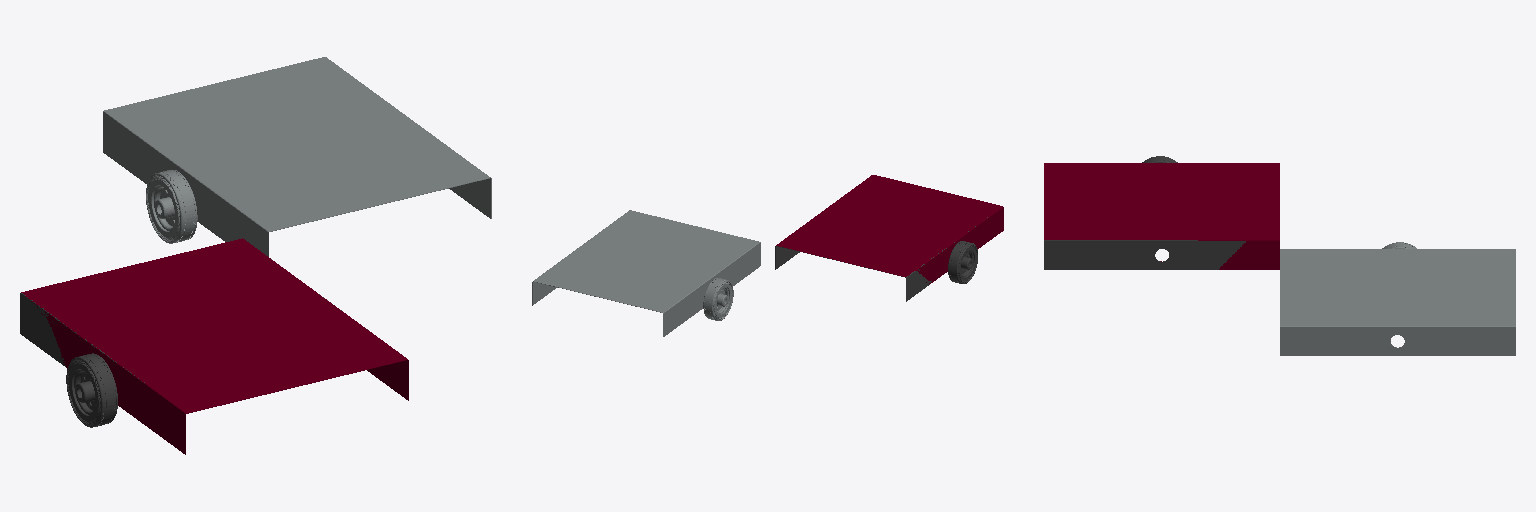
URDF robot description (agv_ver_1):
<?xml version="1.0" encoding="utf-8"?>
<!-- This URDF was automatically created by SolidWorks to URDF Exporter! Originally created by [author] ([email redacted]) 
     Commit Version: 1.5.1-0-g916b5db  Build Version: 1.5.7152.31018
     For more information, please see http://wiki.ros.org/sw_urdf_exporter -->
<robot
  name="agv_ver_1">
  <link
    name="base_link">
    <inertial>
      <origin
        xyz="0.26483842316683 0.0922016373869936 0.518992812281278"
        rpy="0 0 0" />
      <mass
        value="0.160808109152466" />
      <inertia
        ixx="0.00286165456198842"
        ixy="3.23652282728319E-18"
        ixz="4.18226008732023E-18"
        iyy="0.00537116487883416"
        iyz="1.21229105919318E-18"
        izz="0.00259910401326017" />
    </inertial>
    <visual>
      <origin
        xyz="0 0 0"
        rpy="0 0 0" />
      <geometry>
        <mesh
          filename="package://agv_ver_1/meshes/base_link.STL" />
      </geometry>
      <material
        name="">
        <color
          rgba="0.435294117647059 0 0.145098039215686 1" />
      </material>
    </visual>
    <collision>
      <origin
        xyz="0 0 0"
        rpy="0 0 0" />
      <geometry>
        <mesh
          filename="package://agv_ver_1/meshes/base_link.STL" />
      </geometry>
    </collision>
  </link>
  <link
    name="Frontleft_Link">
    <inertial>
      <origin
        xyz="0.078621 0.055788 -0.04876"
        rpy="0 0 0" />
      <mass
        value="0.26047" />
      <inertia
        ixx="0.0026398"
        ixy="1.6378E-09"
        ixz="1.3788E-06"
        iyy="0.0029279"
        iyz="-2.0996E-09"
        izz="0.0054147" />
    </inertial>
    <visual>
      <origin
        xyz="0 0 0"
        rpy="0 0 0" />
      <geometry>
        <mesh
          filename="package://agv_ver_1/meshes/Frontleft_Link.STL" />
      </geometry>
      <material
        name="">
        <color
          rgba="0.8 0.80784 0.8 1" />
      </material>
    </visual>
    <collision>
      <origin
        xyz="0 0 0"
        rpy="0 0 0" />
      <geometry>
        <mesh
          filename="package://agv_ver_1/meshes/Frontleft_Link.STL" />
      </geometry>
    </collision>
  </link>
  <joint
    name="frontleft"
    type="fixed">
    <origin
      xyz="0.1745 -0.6594 0.028"
      rpy="3.1416 0 1.5708" />
    <parent
      link="base_link" />
    <child
      link="Frontleft_Link" />
    <axis
      xyz="0 0 0" />
  </joint>
  <link
    name="frontright_Link">
    <inertial>
      <origin
        xyz="0.078626 -0.053419 -0.04876"
        rpy="0 0 0" />
      <mass
        value="0.26047" />
      <inertia
        ixx="0.0026398"
        ixy="1.6378E-09"
        ixz="1.3788E-06"
        iyy="0.0029279"
        iyz="-2.0996E-09"
        izz="0.0054147" />
    </inertial>
    <visual>
      <origin
        xyz="0 0 0"
        rpy="0 0 0" />
      <geometry>
        <mesh
          filename="package://agv_ver_1/meshes/frontright_Link.STL" />
      </geometry>
      <material
        name="">
        <color
          rgba="0.8 0.80784 0.8 1" />
      </material>
    </visual>
    <collision>
      <origin
        xyz="0 0 0"
        rpy="0 0 0" />
      <geometry>
        <mesh
          filename="package://agv_ver_1/meshes/frontright_Link.STL" />
      </geometry>
    </collision>
  </link>
  <joint
    name="frontright"
    type="fixed">
    <origin
      xyz="0.35139 -0.65941 0.028"
      rpy="3.1416 0 1.5708" />
    <parent
      link="base_link" />
    <child
      link="frontright_Link" />
    <axis
      xyz="0 0 0" />
  </joint>
  <link
    name="backleft_Link">
    <inertial>
      <origin
        xyz="-0.12431 0.055747 -0.04876"
        rpy="0 0 0" />
      <mass
        value="0.26047" />
      <inertia
        ixx="0.0026398"
        ixy="1.6378E-09"
        ixz="1.3788E-06"
        iyy="0.0029279"
        iyz="-2.0996E-09"
        izz="0.0054147" />
    </inertial>
    <visual>
      <origin
        xyz="0 0 0"
        rpy="0 0 0" />
      <geometry>
        <mesh
          filename="package://agv_ver_1/meshes/backleft_Link.STL" />
      </geometry>
      <material
        name="">
        <color
          rgba="0.8 0.80784 0.8 1" />
      </material>
    </visual>
    <collision>
      <origin
        xyz="0 0 0"
        rpy="0 0 0" />
      <geometry>
        <mesh
          filename="package://agv_ver_1/meshes/backleft_Link.STL" />
      </geometry>
    </collision>
  </link>
  <joint
    name="backleft"
    type="fixed">
    <origin
      xyz="0.174569958635286 -0.330706249274559 0.0279999999999957"
      rpy="3.14159265358979 0 1.5707963267949" />
    <parent
      link="base_link" />
    <child
      link="backleft_Link" />
    <axis
      xyz="0 0 0" />
  </joint>
  <link
    name="backright_Link">
    <inertial>
      <origin
        xyz="-0.124325255656738 -0.0535367421095145 -0.0487600912158008"
        rpy="0 0 0" />
      <mass
        value="0.260465018196141" />
      <inertia
        ixx="0.00263976644612934"
        ixy="1.63782090537637E-09"
        ixz="1.37881014154217E-06"
        iyy="0.00292790518163382"
        iyz="-2.09955527604537E-09"
        izz="0.00541470037505788" />
    </inertial>
    <visual>
      <origin
        xyz="0 0 0"
        rpy="0 0 0" />
      <geometry>
        <mesh
          filename="package://agv_ver_1/meshes/backright_Link.STL" />
      </geometry>
      <material
        name="">
        <color
          rgba="0.8 0.807843137254902 0.8 1" />
      </material>
    </visual>
    <collision>
      <origin
        xyz="0 0 0"
        rpy="0 0 0" />
      <geometry>
        <mesh
          filename="package://agv_ver_1/meshes/backright_Link.STL" />
      </geometry>
    </collision>
  </link>
  <joint
    name="backright"
    type="fixed">
    <origin
      xyz="0.35158 -0.33068 0.028"
      rpy="-3.1416 0 1.5708" />
    <parent
      link="base_link" />
    <child
      link="backright_Link" />
    <axis
      xyz="0 0 0" />
  </joint>
  <link
    name="leftwheel_Link">
    <inertial>
      <origin
        xyz="-0.23023 0.026752 0.068739"
        rpy="0 0 0" />
      <mass
        value="0.46274" />
      <inertia
        ixx="0.0027747"
        ixy="0.00014488"
        ixz="-5.3404E-18"
        iyy="0.0055316"
        iyz="4.1016E-18"
        izz="0.0031719" />
    </inertial>
    <visual>
      <origin
        xyz="0 0 0"
        rpy="0 0 0" />
      <geometry>
        <mesh
          filename="package://agv_ver_1/meshes/leftwheel_Link.STL" />
      </geometry>
      <material
        name="">
        <color
          rgba="0.29804 0.29804 0.29804 1" />
      </material>
    </visual>
    <collision>
      <origin
        xyz="0 0 0"
        rpy="0 0 0" />
      <geometry>
        <mesh
          filename="package://agv_ver_1/meshes/leftwheel_Link.STL" />
      </geometry>
    </collision>
  </link>
  <joint
    name="leftwheel"
    type="prismatic">
    <origin
      xyz="0.067038 -0.29039 0.05"
      rpy="1.5708 -0.05236 1.5708" />
    <parent
      link="base_link" />
    <child
      link="leftwheel_Link" />
    <axis
      xyz="0.99863 -0.052336 0" />
    <limit
      lower="0"
      upper="0"
      effort="0"
      velocity="0" />
  </joint>
  <link
    name="rightwheel_Link">
    <inertial>
      <origin
        xyz="0.014666 0.23134 -0.068739"
        rpy="0 0 0" />
      <mass
        value="0.46274" />
      <inertia
        ixx="0.0055392"
        ixy="1.0177E-18"
        ixz="3.0046E-18"
        iyy="0.0027671"
        iyz="8.4338E-18"
        izz="0.0031719" />
    </inertial>
    <visual>
      <origin
        xyz="0 0 0"
        rpy="0 0 0" />
      <geometry>
        <mesh
          filename="package://agv_ver_1/meshes/rightwheel_Link.STL" />
      </geometry>
      <material
        name="">
        <color
          rgba="0.52941 0.54902 0.54902 1" />
      </material>
    </visual>
    <collision>
      <origin
        xyz="0 0 0"
        rpy="0 0 0" />
      <geometry>
        <mesh
          filename="package://agv_ver_1/meshes/rightwheel_Link.STL" />
      </geometry>
    </collision>
  </link>
  <joint
    name="rightwheel"
    type="prismatic">
    <origin
      xyz="0.46264 -0.29039 0.05"
      rpy="0 -1.5708 0" />
    <parent
      link="base_link" />
    <child
      link="rightwheel_Link" />
    <axis
      xyz="0 1 0" />
    <limit
      lower="0"
      upper="0"
      effort="0"
      velocity="0" />
  </joint>
</robot>

--- Render facts (derived) ---
3 views of the same robot in one strip: view 1: azimuth 30°, elevation 25°; view 2: azimuth 150°, elevation 25°; view 3: azimuth 270°, elevation 25° (orthographic).
Robot: agv_ver_1 — 7 links, 6 joints (2 prismatic, 4 fixed); root link base_link; default pose: every joint at zero.
Links seen in each view (by area): view 1: rightwheel_Link, base_link, leftwheel_Link; view 2: rightwheel_Link, base_link, leftwheel_Link; view 3: rightwheel_Link, base_link, leftwheel_Link.
Link boxes in pixels (x1,y1,x2,y2): rightwheel_Link: (103, 57, 491, 256); base_link: (21, 238, 408, 454); leftwheel_Link: (20, 259, 367, 427); rightwheel_Link: (532, 210, 760, 336); base_link: (776, 175, 1003, 283); leftwheel_Link: (775, 217, 987, 301); rightwheel_Link: (1280, 242, 1515, 355); base_link: (1044, 163, 1279, 269); leftwheel_Link: (1044, 156, 1245, 269).
Size in the robot's own frame: 0.7912 by 0.9144 by 0.1007 metres.
Meshes: 7 distinct files referenced, 3 mesh visuals loaded (3 binary STL); not drawn: 4 (reference not matched to a file when rendering).